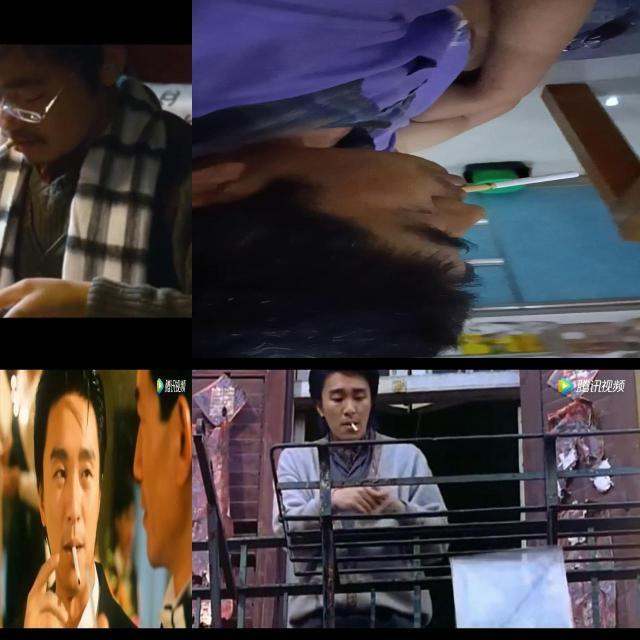smoking: (461, 171, 579, 193), (0, 138, 16, 174), (72, 546, 80, 586), (348, 418, 358, 432)
